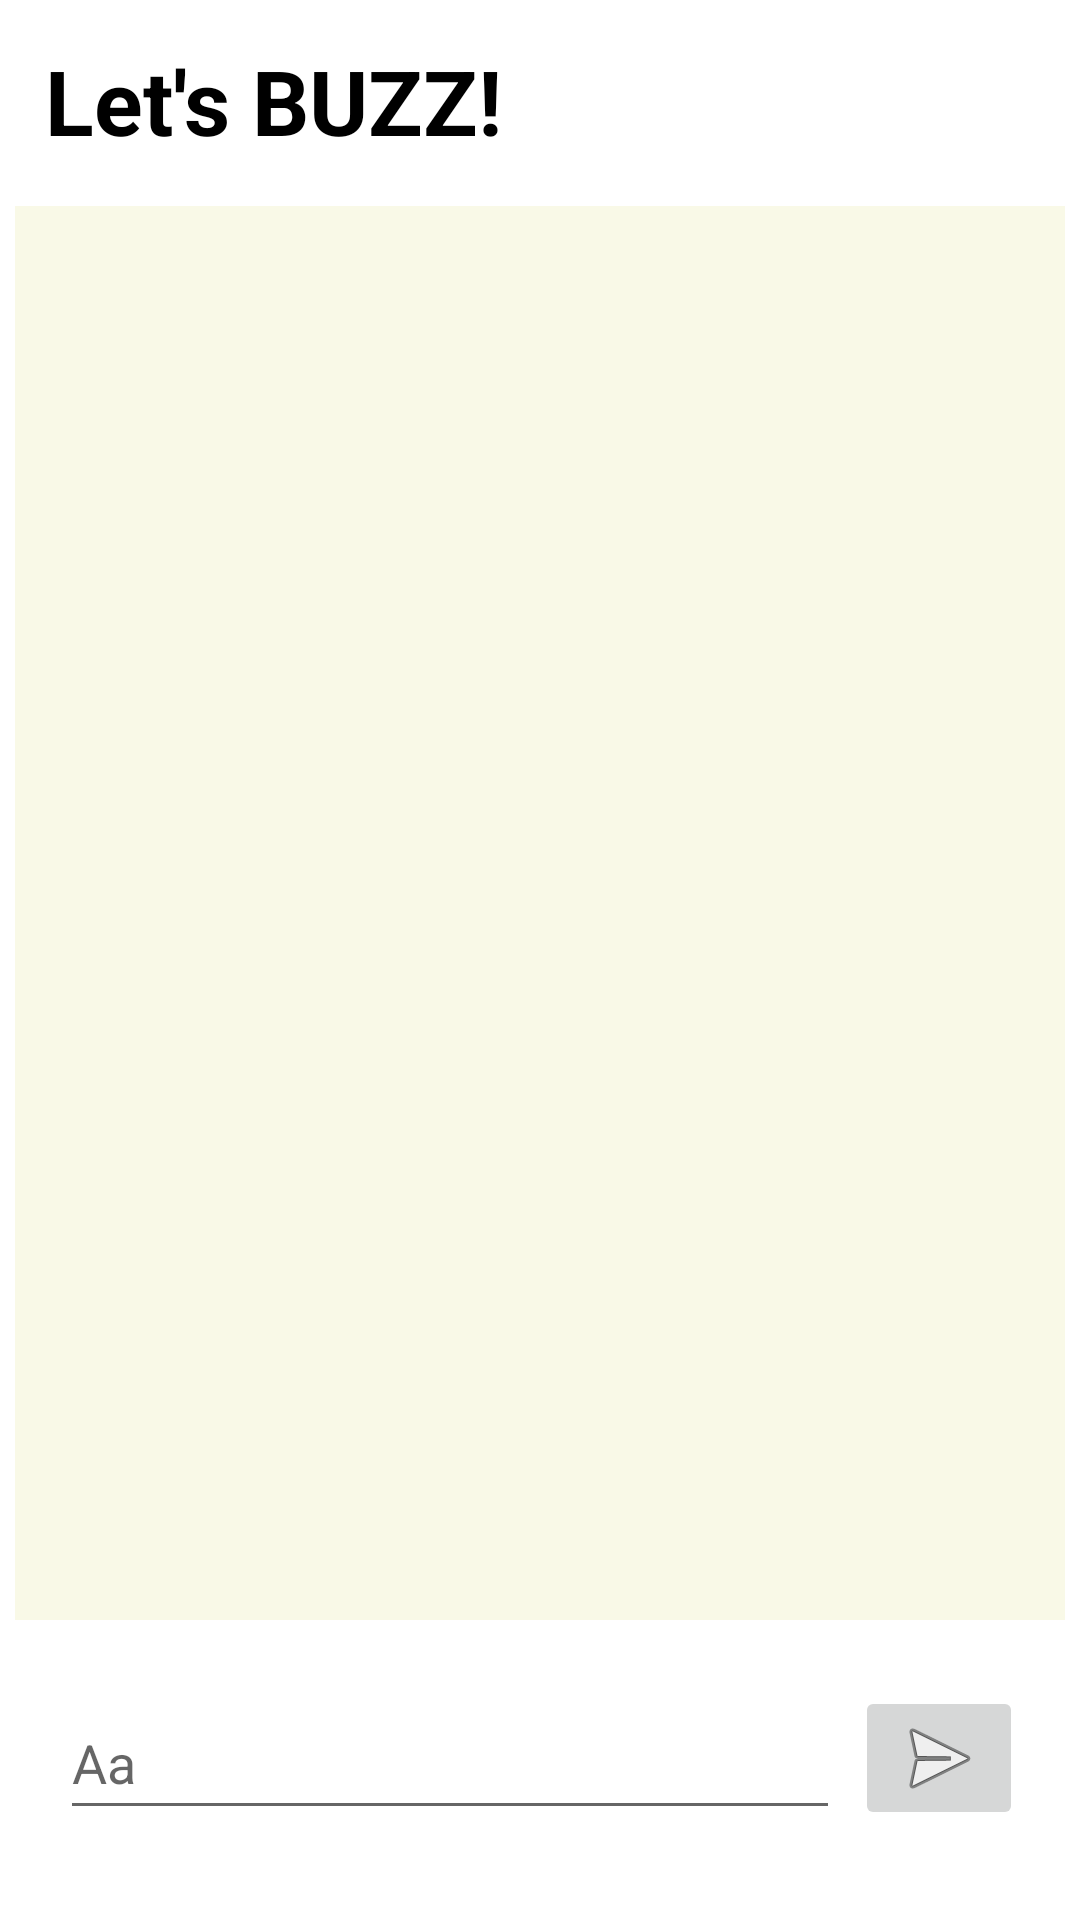

Icon bounding boxes for this 1080px x 1920px phone screenshot, format (x1, y1, x2, y2):
send: (867, 1704, 1011, 1812)
